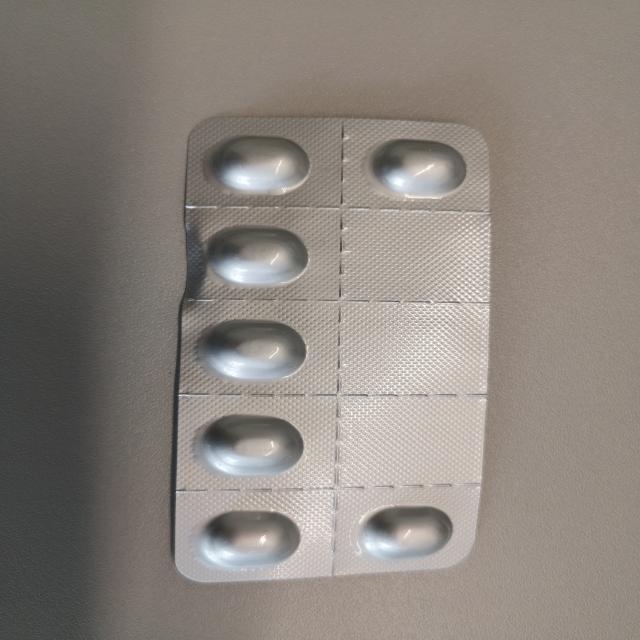Pill: (190, 413, 312, 483), (188, 316, 316, 380), (204, 132, 323, 198), (362, 136, 473, 204), (201, 225, 316, 289), (351, 501, 458, 565), (198, 508, 306, 570)
